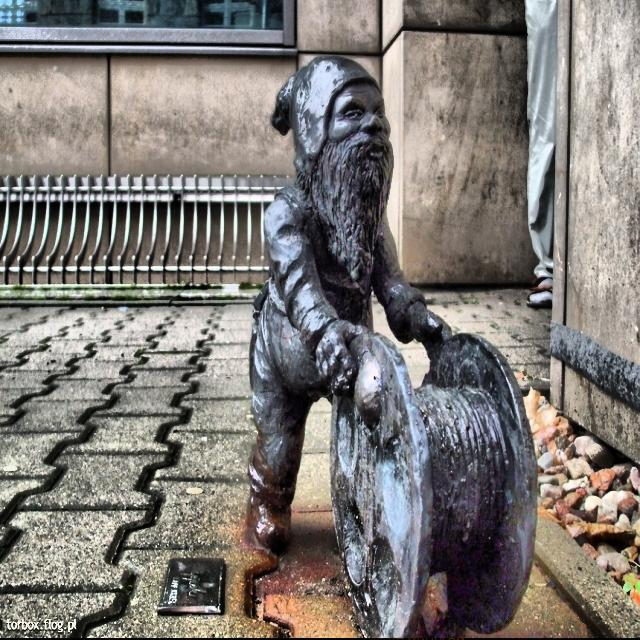Lappek: (249, 56, 543, 640)
